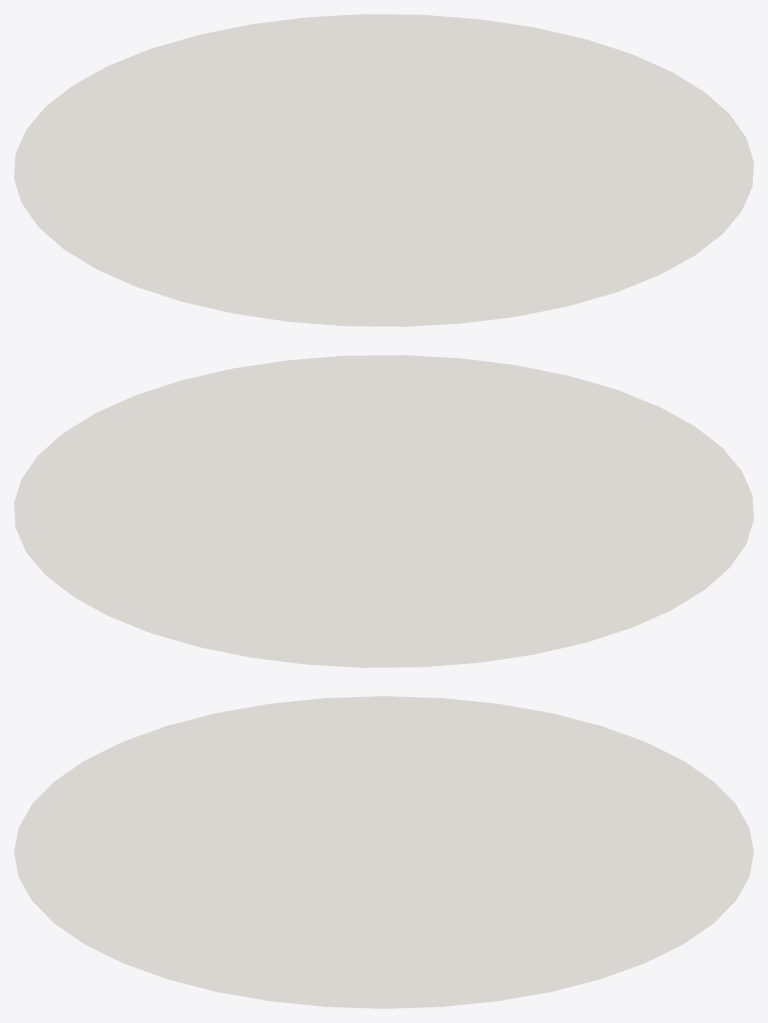
The model's file is CirclePool.obj.
The picture shows the model from 3 angles, top to bottom: view 1: azimuth 30°, elevation 25°; view 2: azimuth 150°, elevation 25°; view 3: azimuth 270°, elevation 25°; orthographic projection.
Visible parts, largest first — view 1: CirclePool; view 2: CirclePool; view 3: CirclePool.
Boxes of the visible parts, x1,y1,x2,y2 form: CirclePool: [14, 14, 753, 326]; CirclePool: [14, 355, 753, 667]; CirclePool: [14, 696, 753, 1008].
Bounding box in the file's own units: 5.6 × 0.006 × 5.6.
3 materials, 3 textured.
